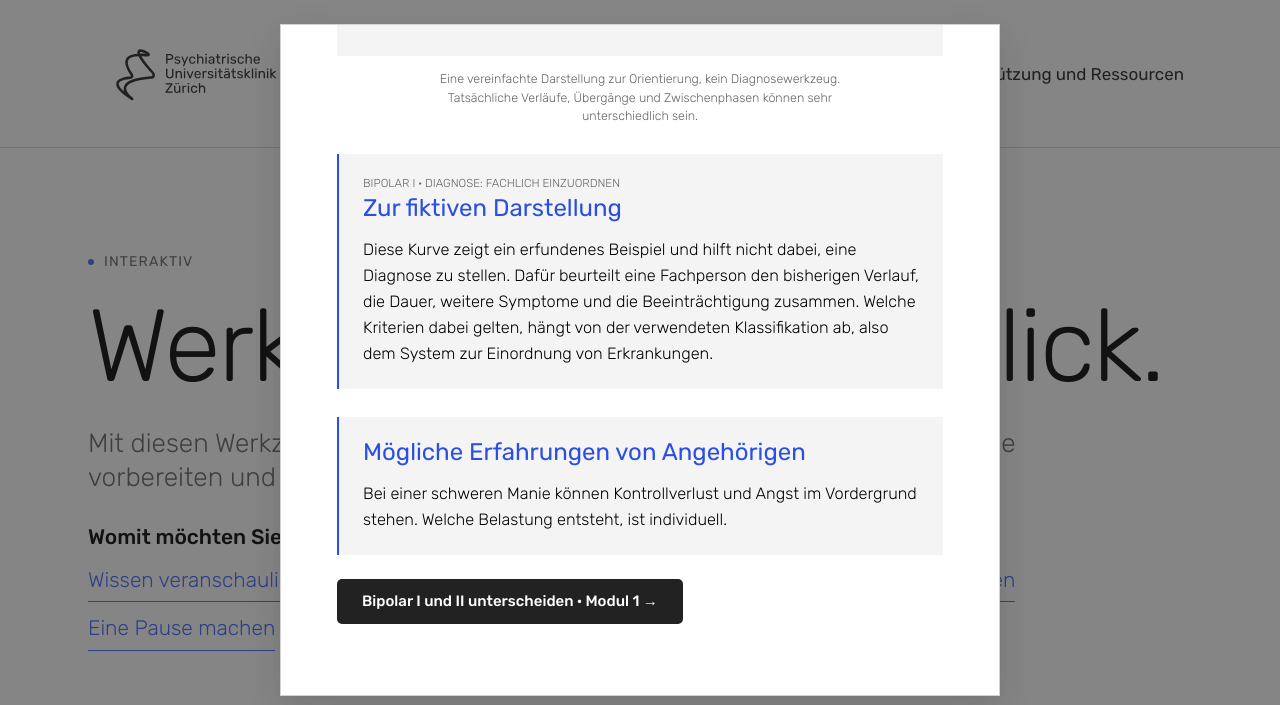
Test: App navigation › opens a bookmarked tool after loading and keeps its module destination when leaving the dialog
(page scrolled)
Click the button "Bipolar I und II unterscheiden · Modul 1 →".
click(510, 602)  # box [337, 579, 683, 624]
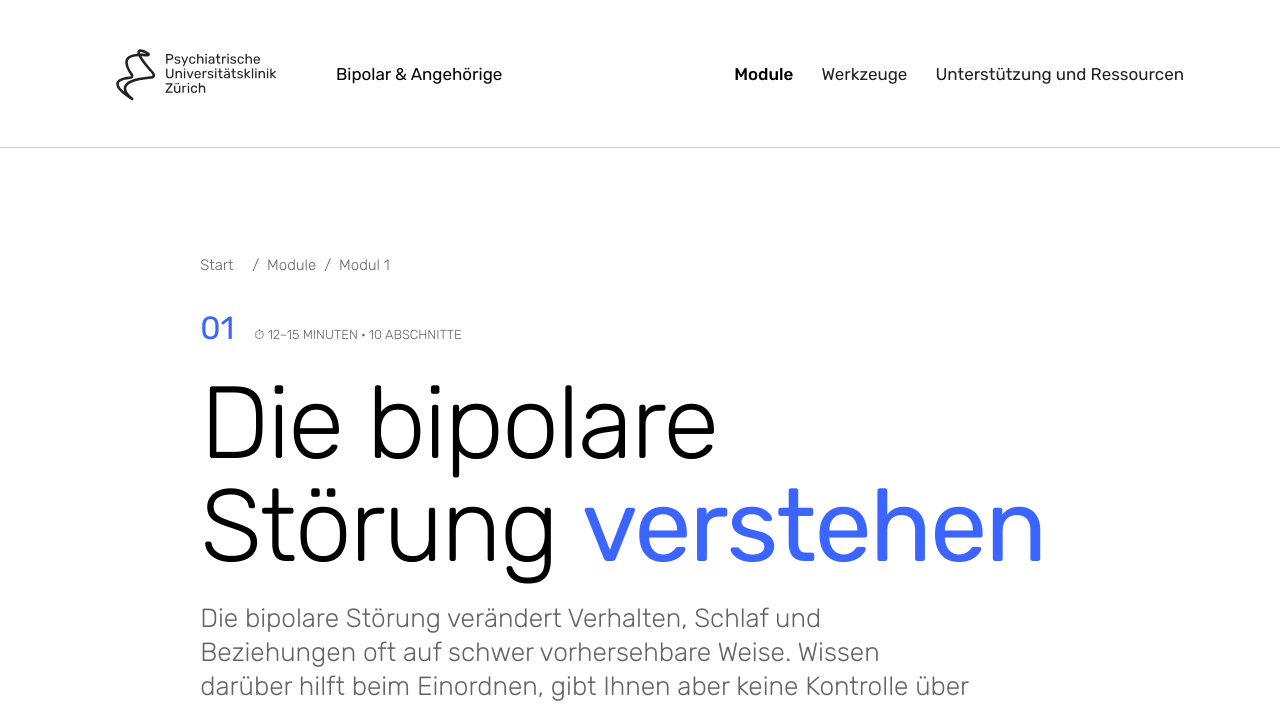
Expected: the heading "Die bipolare Störung verstehen" is shown, [200, 372, 1080, 577]
